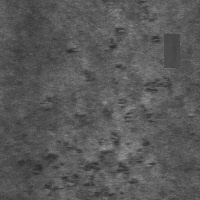inclusion: (164, 34, 180, 68)
rolled-in_scale: (31, 91, 161, 200), (109, 1, 161, 50)
